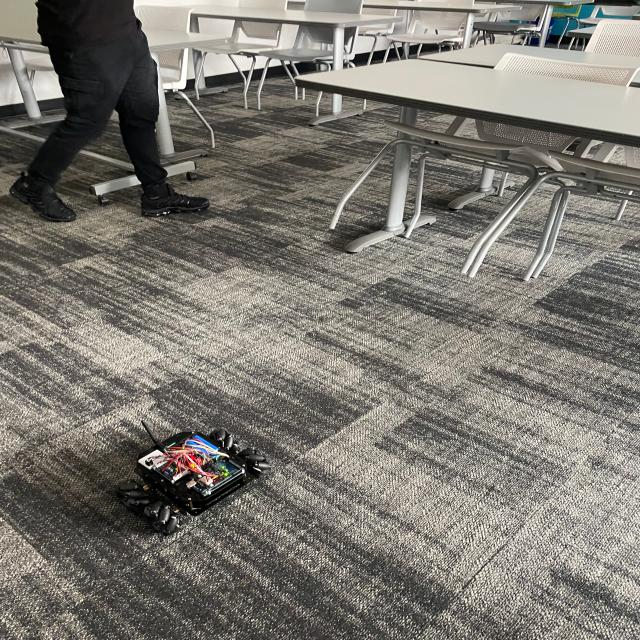ArduinoCar: (106, 419, 270, 532)
